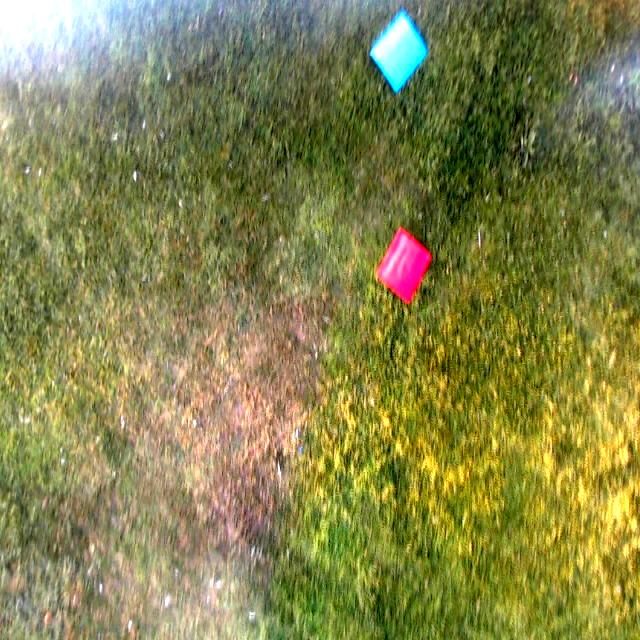blue_square: (368, 13, 427, 92)
red_square: (376, 228, 431, 304)
